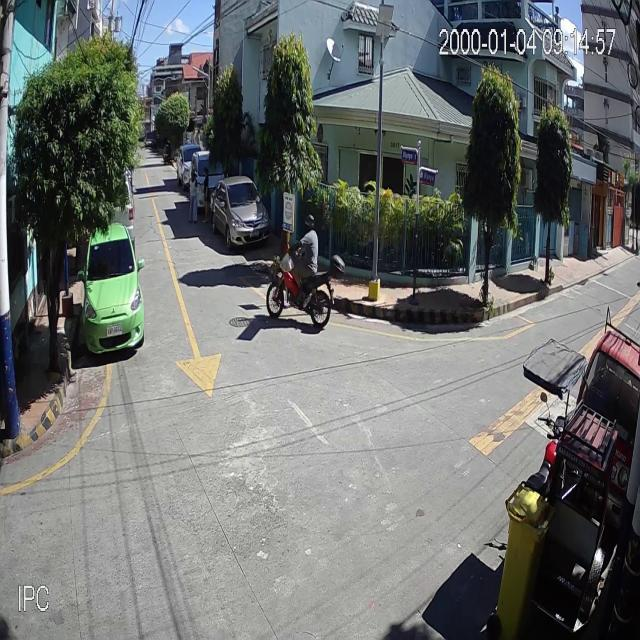standing: (201, 165, 211, 222)
walking: (188, 167, 198, 225)
